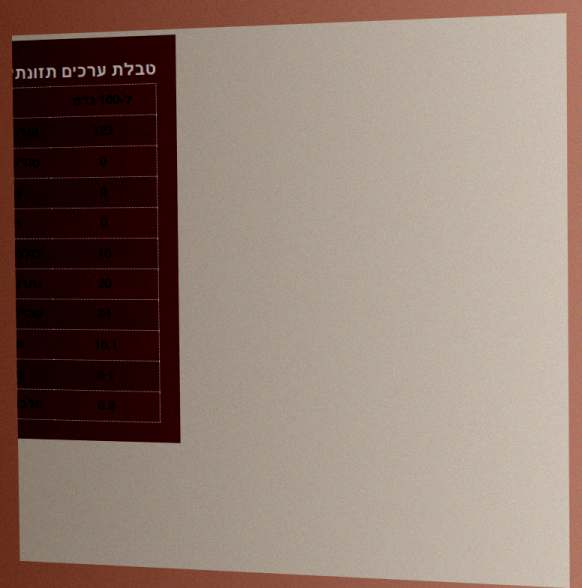carbs: (97, 307, 114, 323)
energy: (91, 123, 115, 139)
fat: (98, 154, 108, 170)
protein: (96, 398, 116, 414)
